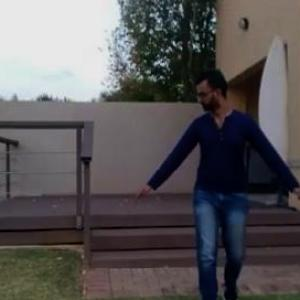land: (120, 56, 299, 299)
